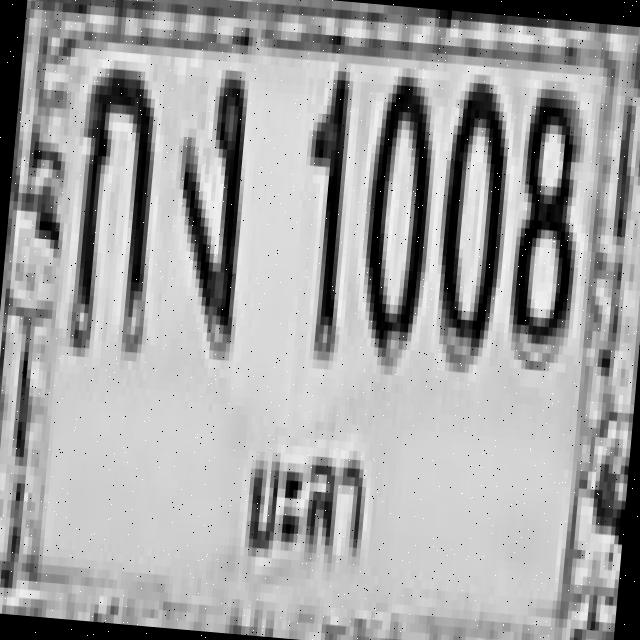0: (353, 65, 438, 359), (429, 72, 510, 365)
1: (290, 60, 354, 352)
10GorGai: (63, 58, 164, 352)
16NgorNgu: (161, 58, 250, 352)
8: (502, 78, 586, 354)
Yala: (224, 434, 386, 588)
